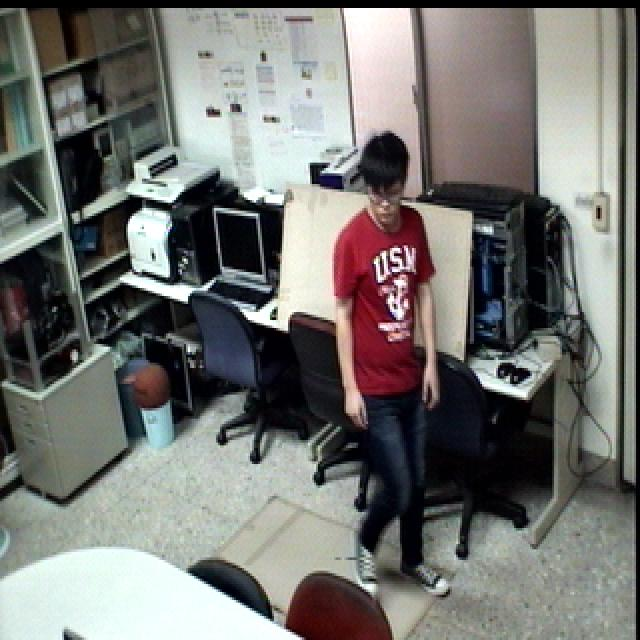stand: (321, 128, 450, 603)
